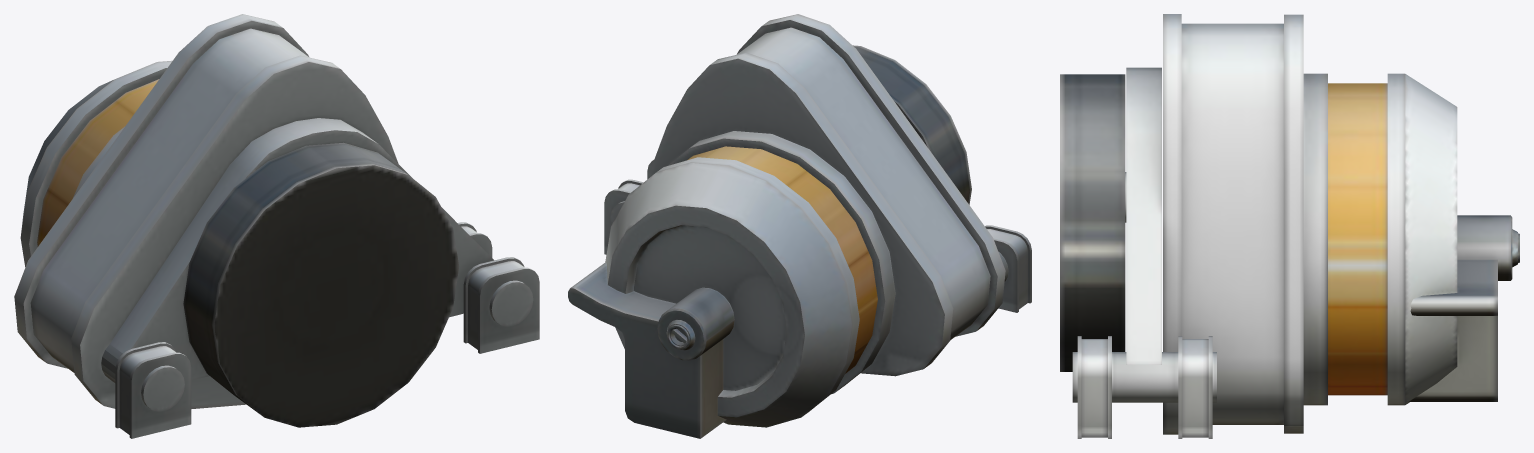
The model's file is windpowergenerator_inside_2001_06.obj.
3 views of the same model, side by side, from view 1: azimuth 30°, elevation 25°; view 2: azimuth 150°, elevation 25°; view 3: azimuth 270°, elevation 25° (orthographic). The views are drawn at different scales.
Parts seen in each view (by area): view 1: polySurface230; view 2: polySurface230; view 3: polySurface230.
Boxes of the visible parts, x1,y1,x2,y2 form: polySurface230: (14, 14, 539, 438); polySurface230: (568, 14, 1031, 438); polySurface230: (1060, 14, 1519, 438).
Size of the model in its own units: 330 by 271 by 295.
1 material, 1 textured.
